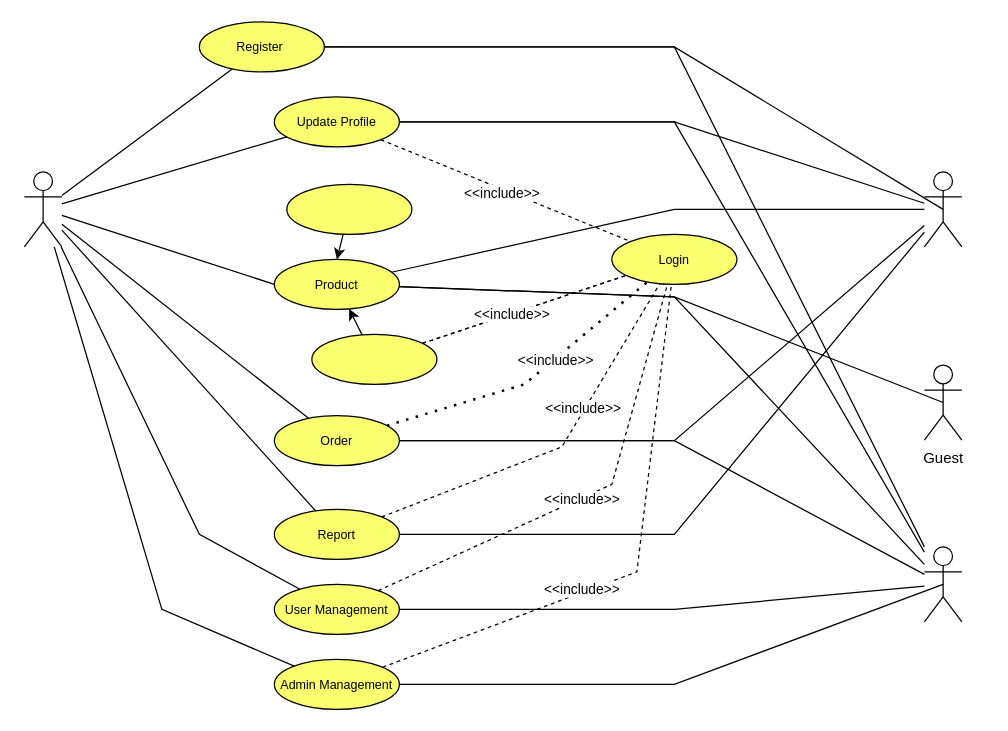
This 1008x731 diagram has some shape labels left out. Each missing label, with the centre of its shape:
Admin: the point at 42,209
Category Product: the point at 349,208
Payment Product: the point at 374,358
Super Admin: the point at 942,584
User: the point at 942,209
